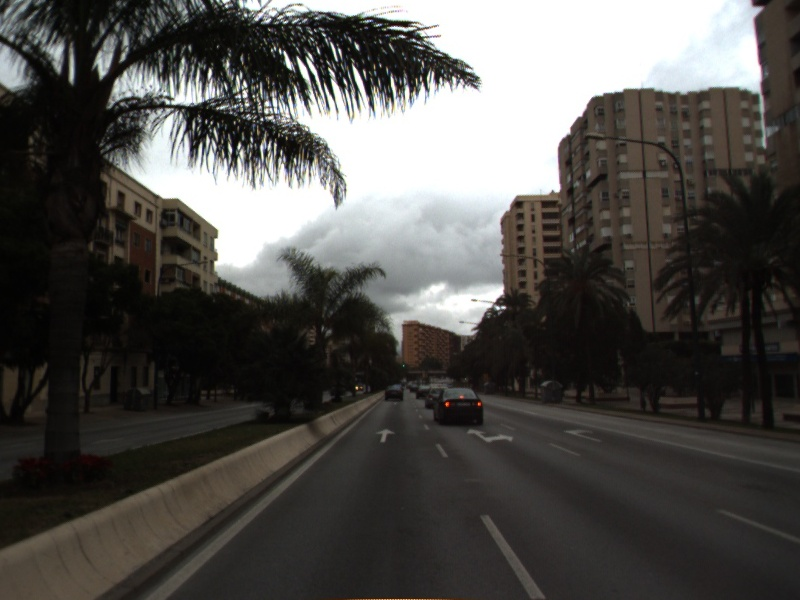RIGHT: (562, 426, 604, 445)
STRAIGHT: (373, 427, 398, 445)
STRAIGHT_RIGHT: (465, 425, 516, 445)
